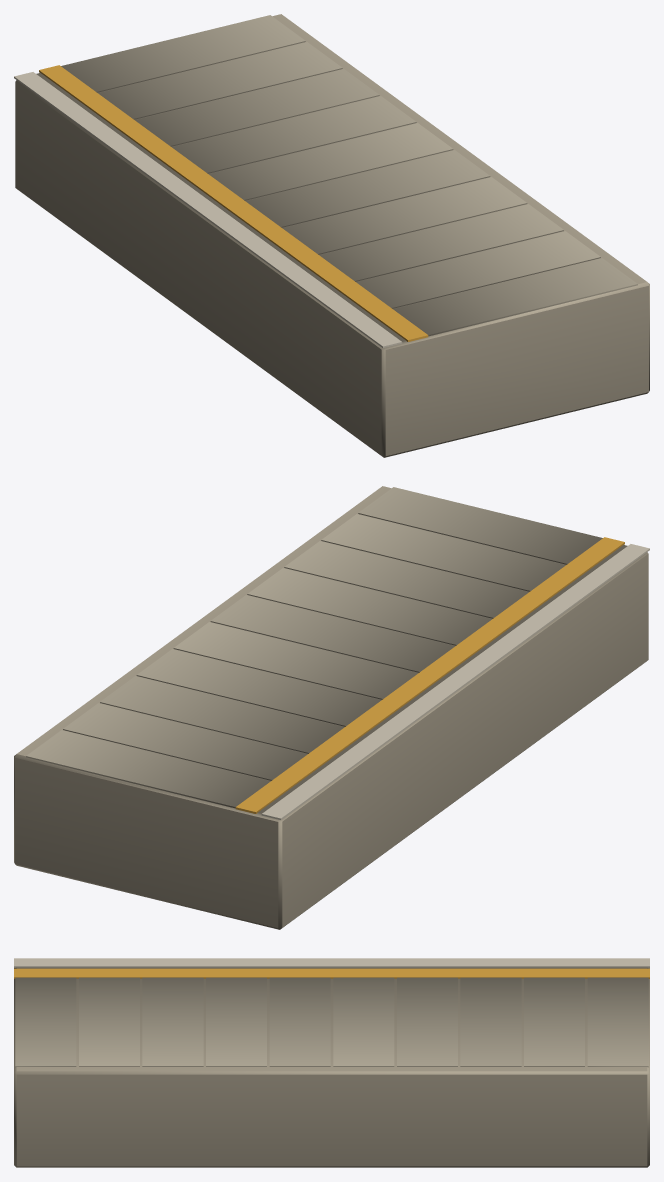
File: rail_platform.glb
3 renders of one model, top to bottom at view 1: azimuth 30°, elevation 25°; view 2: azimuth 150°, elevation 25°; view 3: azimuth 270°, elevation 25°, orthographic. The views are drawn at different scales.
Visible parts, largest first — view 1: rail_platform_mesh; view 2: rail_platform_mesh; view 3: rail_platform_mesh.
Part boxes in pixels (bbox=[...]): rail_platform_mesh: bbox=[14, 14, 649, 457]; rail_platform_mesh: bbox=[14, 486, 649, 929]; rail_platform_mesh: bbox=[14, 958, 649, 1167].
Bounding box in the file's own units: 4.2 × 1.69 × 10.
